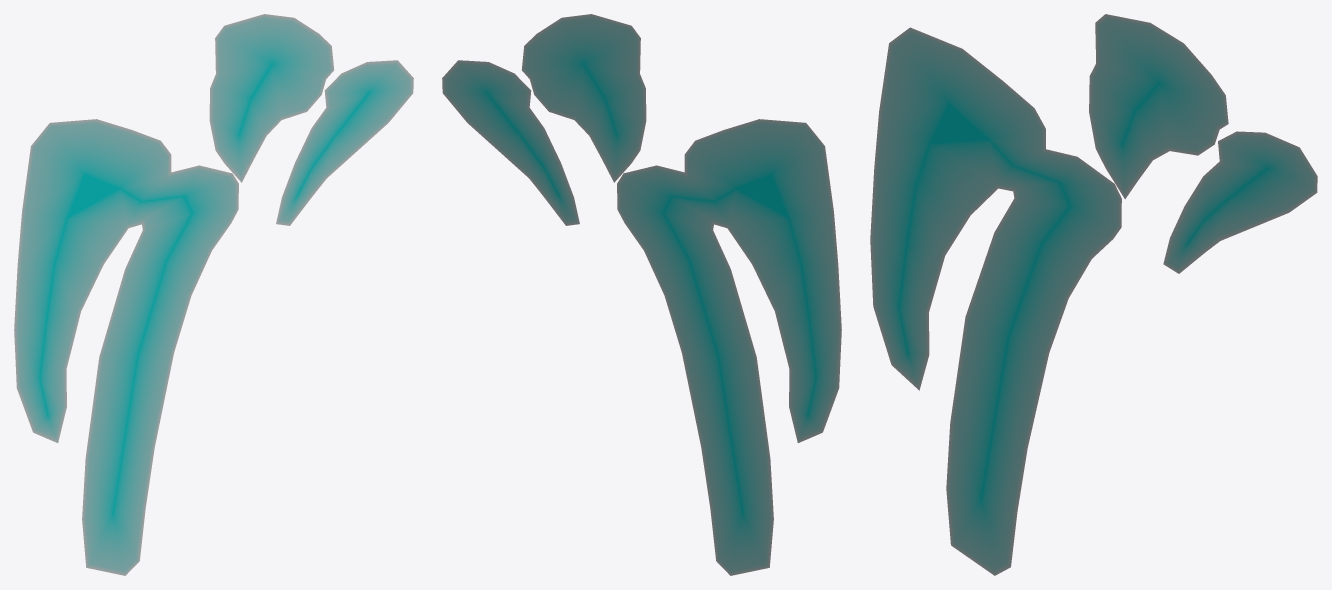
The model's file is SM_EFF_Text_MultipleSnake_02.glb.
The picture shows the model from 3 angles, left to right: view 1: azimuth 30°, elevation 25°; view 2: azimuth 150°, elevation 25°; view 3: azimuth 330°, elevation 25°; orthographic projection. The views are drawn at different scales.
Visible parts, largest first — view 1: SM_EFF_Text_MultipleSnake_02; view 2: SM_EFF_Text_MultipleSnake_02; view 3: SM_EFF_Text_MultipleSnake_02.
Boxes of the visible parts, x1,y1,x2,y2 form: SM_EFF_Text_MultipleSnake_02: [14, 14, 413, 575]; SM_EFF_Text_MultipleSnake_02: [442, 14, 841, 575]; SM_EFF_Text_MultipleSnake_02: [870, 14, 1317, 575].
Size of the model in its own units: 0.6989 by 0.8823 by 5.4e-17.
